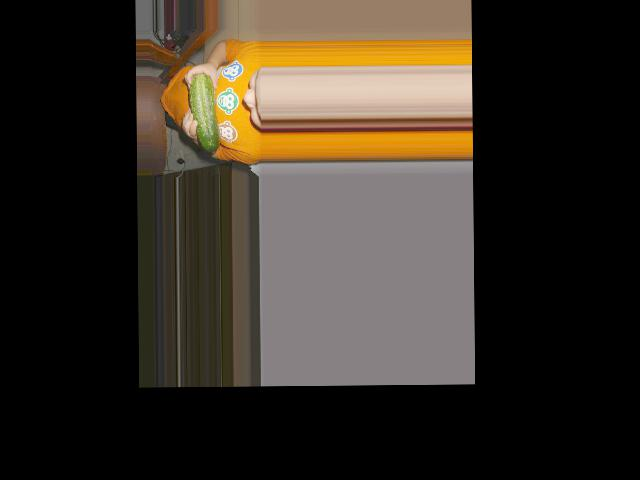cucumber: (189, 72, 219, 152)
